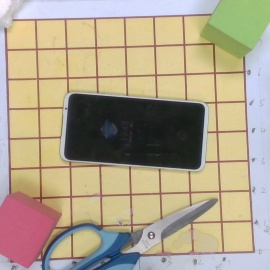phone: (58, 92, 209, 172)
